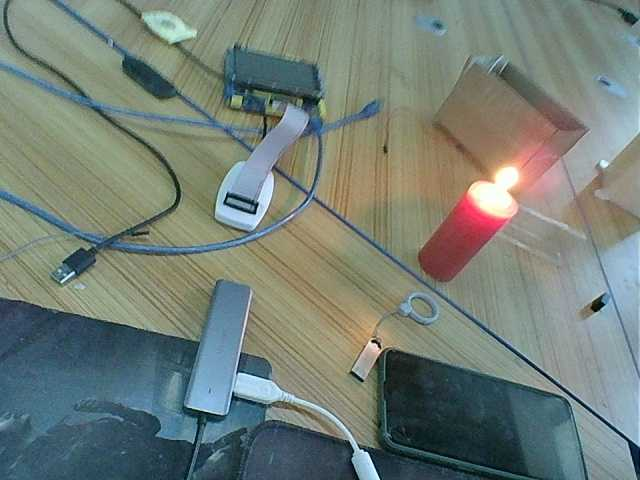candle: (411, 197, 508, 278)
fire: (469, 166, 520, 211)
